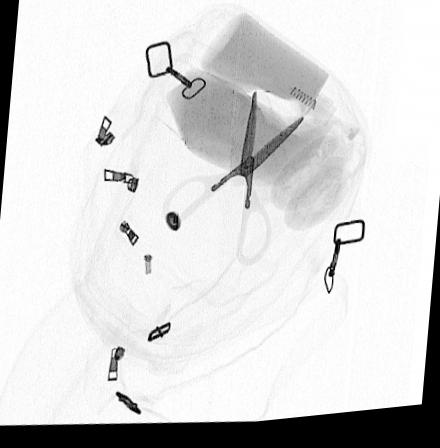Scissors: (160, 96, 305, 272)
